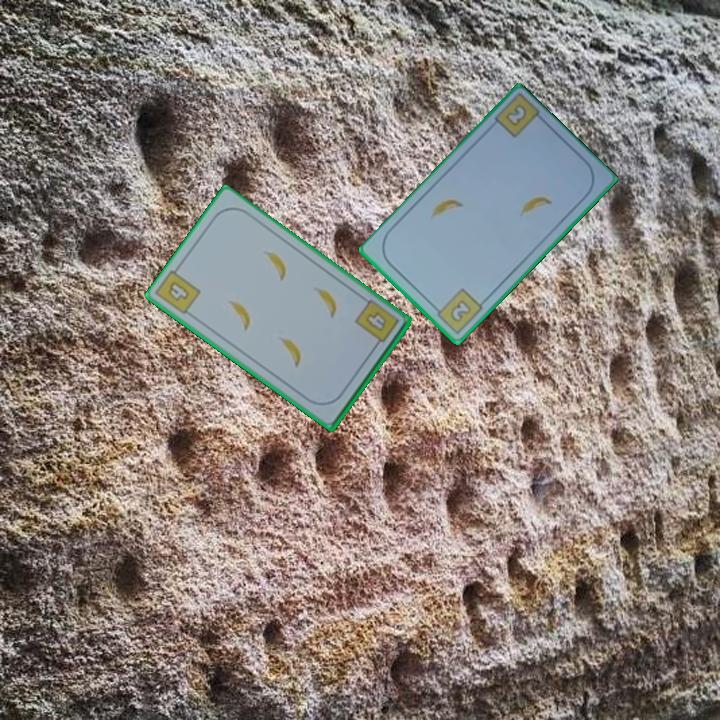2b: (429, 285, 486, 337), (502, 101, 530, 130)
4b: (351, 298, 402, 352), (164, 278, 192, 304)
